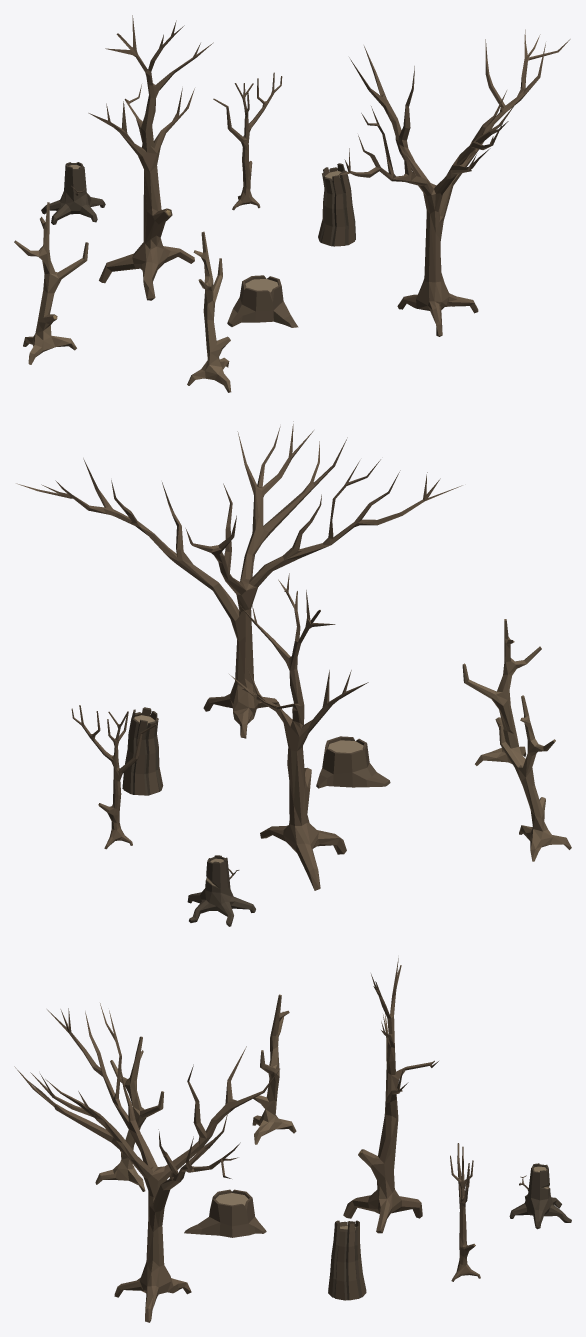
The model's file is SM_Envr_Nature_Tree_Group_Dead.fbx.
3 views of the same model, one above another, from view 1: azimuth 30°, elevation 25°; view 2: azimuth 150°, elevation 25°; view 3: azimuth 270°, elevation 25° (orthographic). The views are drawn at different scales.
Visible parts, largest first — view 1: SM_Envr_Nature_Tree_Group_Dead; view 2: SM_Envr_Nature_Tree_Group_Dead; view 3: SM_Envr_Nature_Tree_Group_Dead.
Part boxes in pixels (bbox=[...]): SM_Envr_Nature_Tree_Group_Dead: bbox=[14, 15, 570, 392]; SM_Envr_Nature_Tree_Group_Dead: bbox=[16, 421, 571, 926]; SM_Envr_Nature_Tree_Group_Dead: bbox=[14, 958, 571, 1322].
Size of the model in its own units: 1603 by 782 by 1450.
